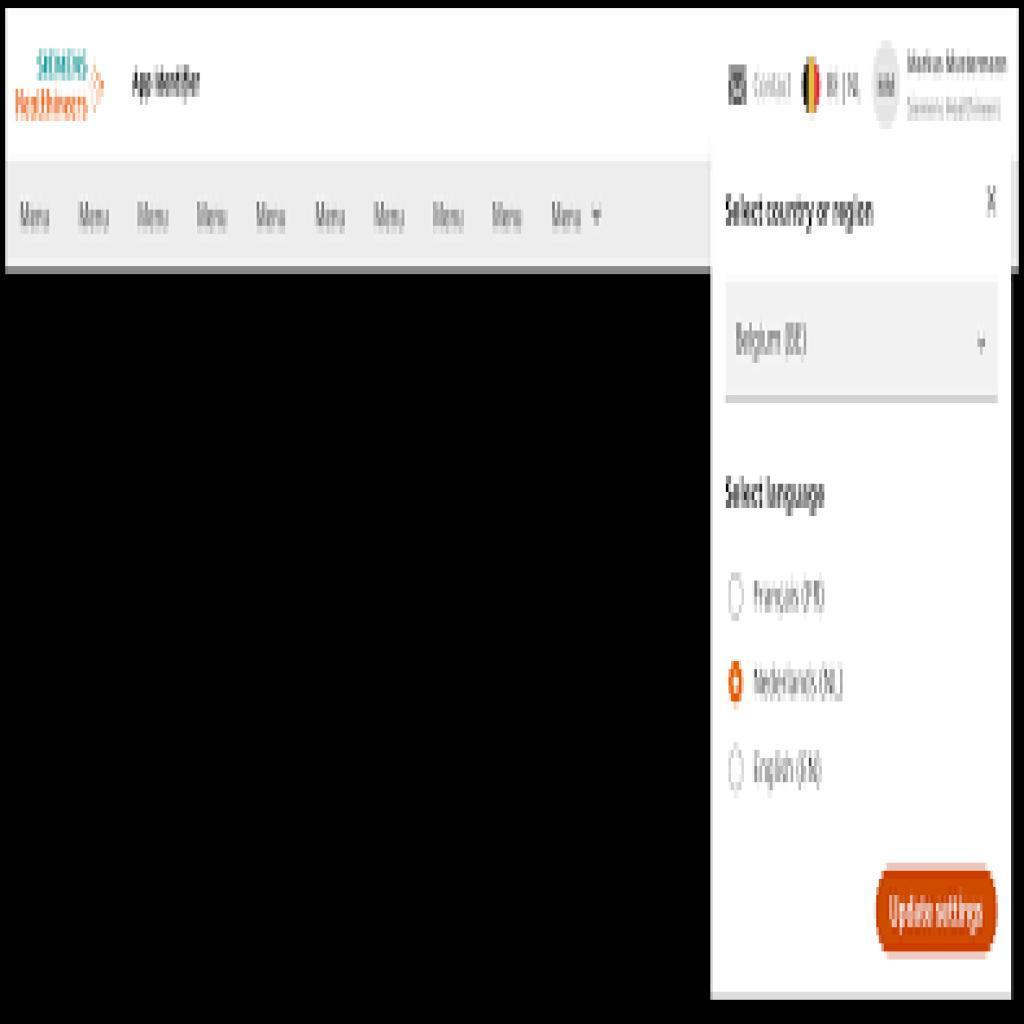button: (874, 862, 1000, 963)
dropdown: (723, 283, 1001, 405)
icon: (985, 184, 1002, 221)
label: (723, 188, 877, 239), (724, 474, 828, 518), (752, 664, 848, 705), (753, 748, 827, 797), (752, 576, 828, 619)
radio: (728, 744, 746, 799), (727, 575, 747, 623), (727, 660, 746, 708)
